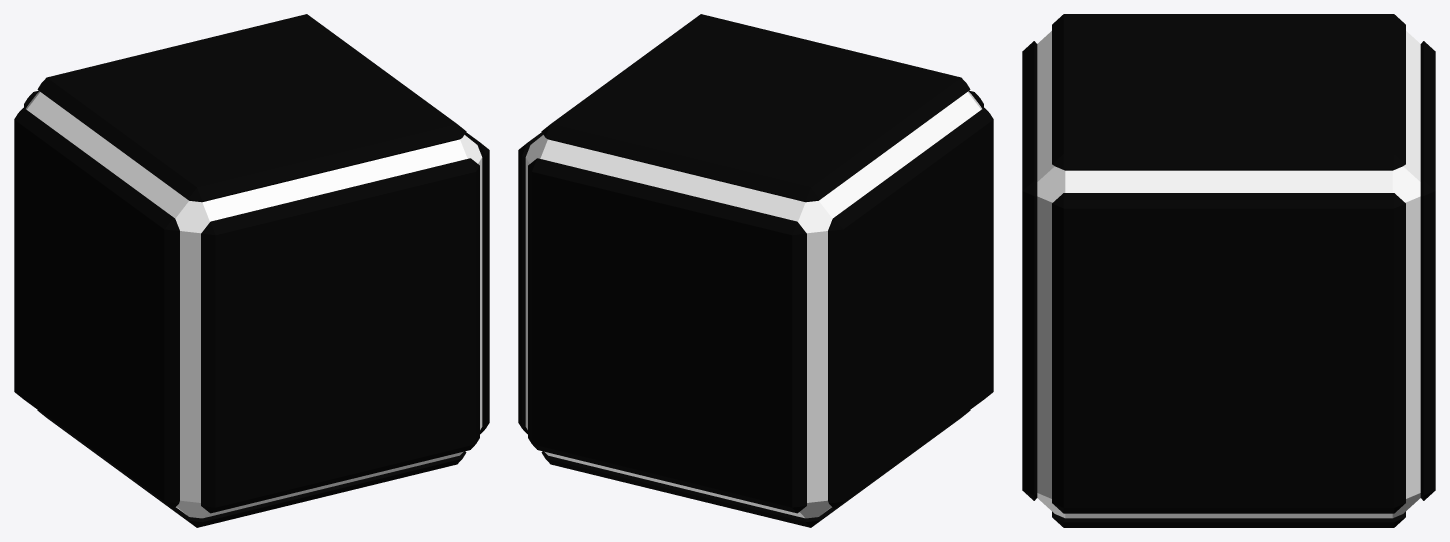
The picture shows the model from 3 angles, left to right: view 1: azimuth 30°, elevation 25°; view 2: azimuth 150°, elevation 25°; view 3: azimuth 270°, elevation 25°; orthographic projection. The views are drawn at different scales.
Parts seen in each view (by area): view 1: Blue_Cube; view 2: Blue_Cube; view 3: Blue_Cube.
Boxes of the visible parts, x1,y1,x2,y2 form: Blue_Cube: [14, 14, 489, 527]; Blue_Cube: [518, 14, 993, 527]; Blue_Cube: [1022, 14, 1435, 527].
Size of the model in its own units: 1 by 1 by 1.
1 material, 1 textured.
